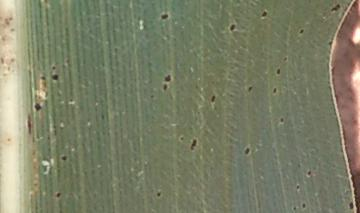tarspot: (26, 111, 33, 135), (33, 101, 42, 111), (189, 138, 197, 149), (160, 11, 169, 20), (162, 74, 172, 82), (331, 4, 340, 12), (348, 200, 355, 210), (209, 94, 216, 103), (50, 74, 58, 81), (247, 85, 254, 93), (228, 24, 236, 31), (260, 9, 267, 17), (298, 27, 305, 35), (60, 154, 67, 161), (278, 116, 285, 123), (162, 83, 168, 91), (244, 147, 250, 155), (306, 169, 312, 177), (148, 93, 155, 99), (327, 39, 333, 46), (55, 191, 61, 198), (272, 86, 277, 94), (276, 67, 281, 75), (68, 97, 74, 103), (39, 75, 46, 80), (50, 65, 57, 70), (301, 202, 306, 209), (296, 183, 300, 191), (179, 135, 184, 141), (282, 56, 288, 61), (156, 191, 161, 197), (292, 206, 297, 211)
